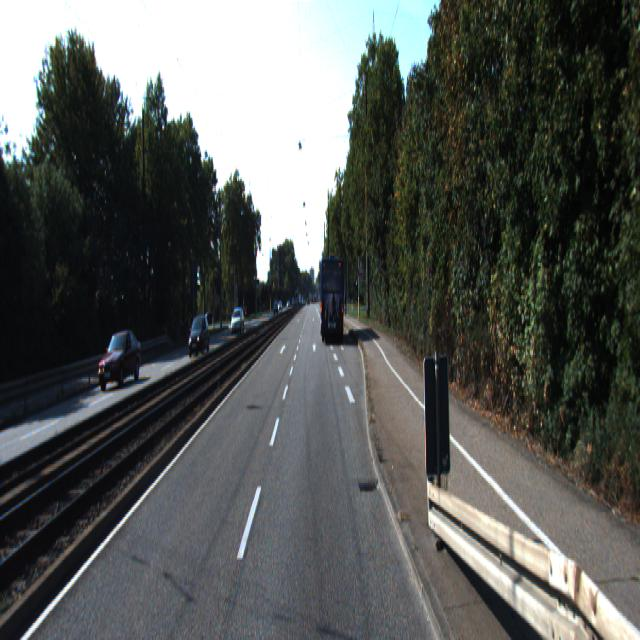Car: (98, 331, 144, 393), (320, 257, 345, 345), (188, 316, 210, 358), (230, 308, 246, 337)
